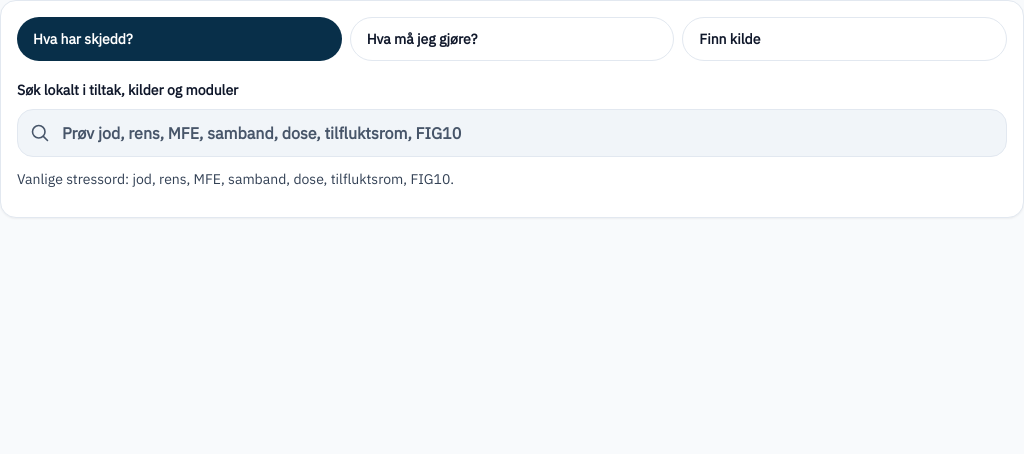
Scenario: shows card review state unreviewed separately from source state
Type "pumpe" into the search field at (526, 133), box [58,111,994,155]
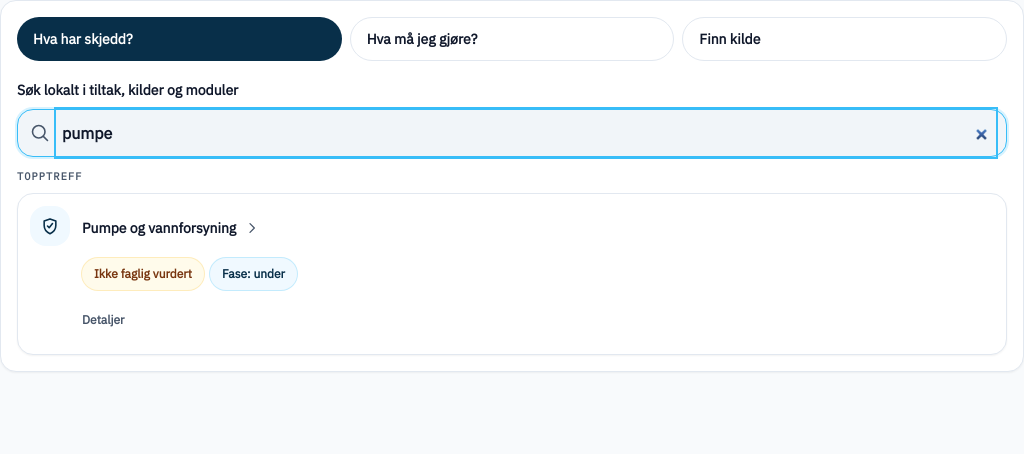
Check: the text "Ikke faglig vurdert" is shown, box [94,266,192,282]
Click the heading "Detaljer" at (103, 319), box [82,312,124,327]
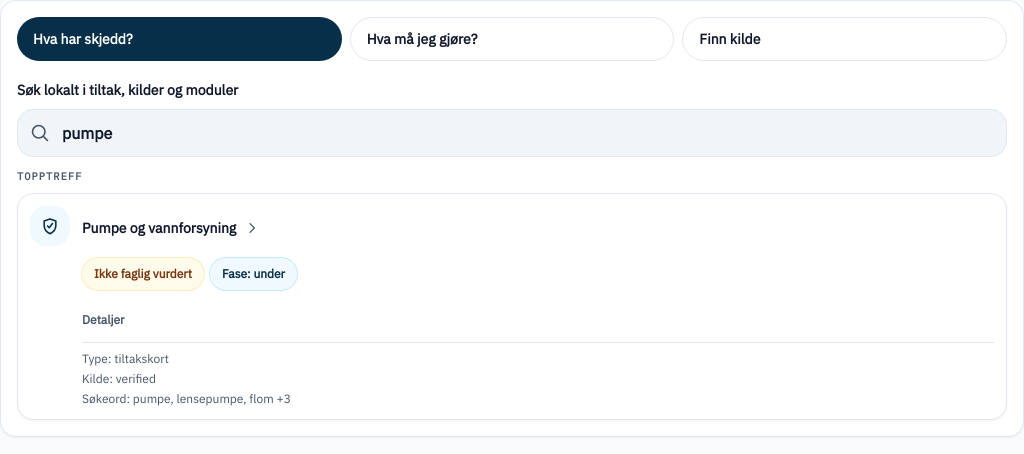
Check: the text "Kilde: verified" is shown, box [82,371,156,386]
